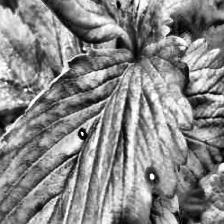Leaf Spot: (0, 34, 195, 224), (20, 0, 204, 51), (176, 32, 224, 205)
